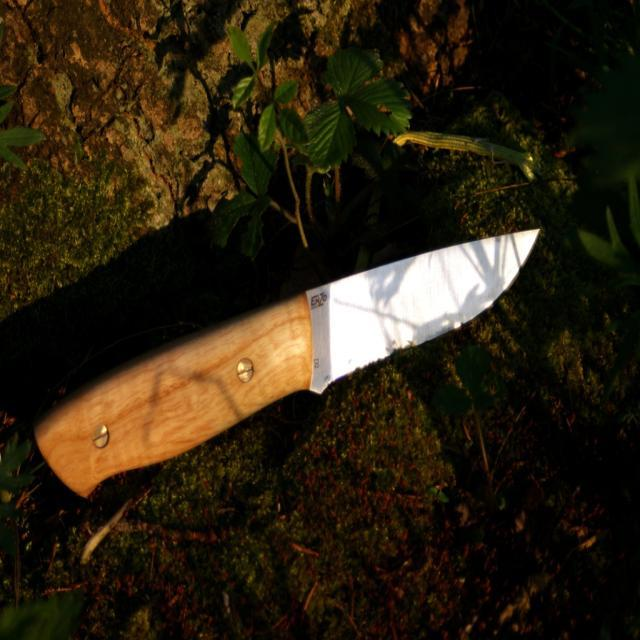Knife: (35, 231, 539, 496)
